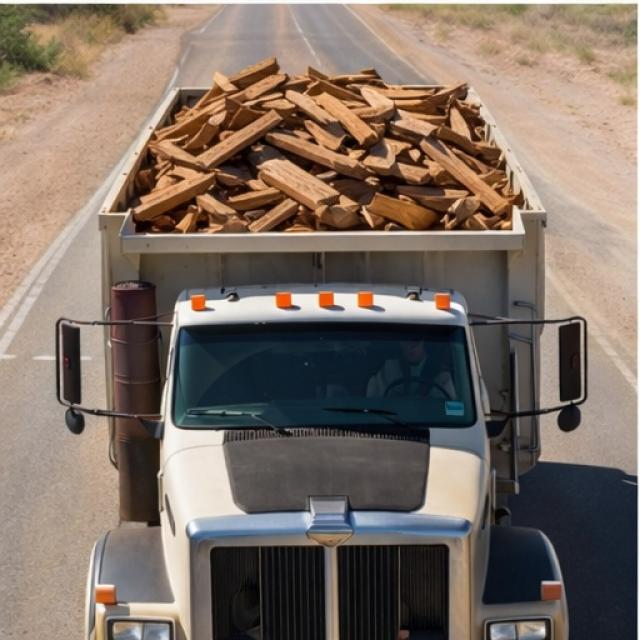Box: (90, 58, 564, 247)
Truck: (29, 59, 610, 636)
